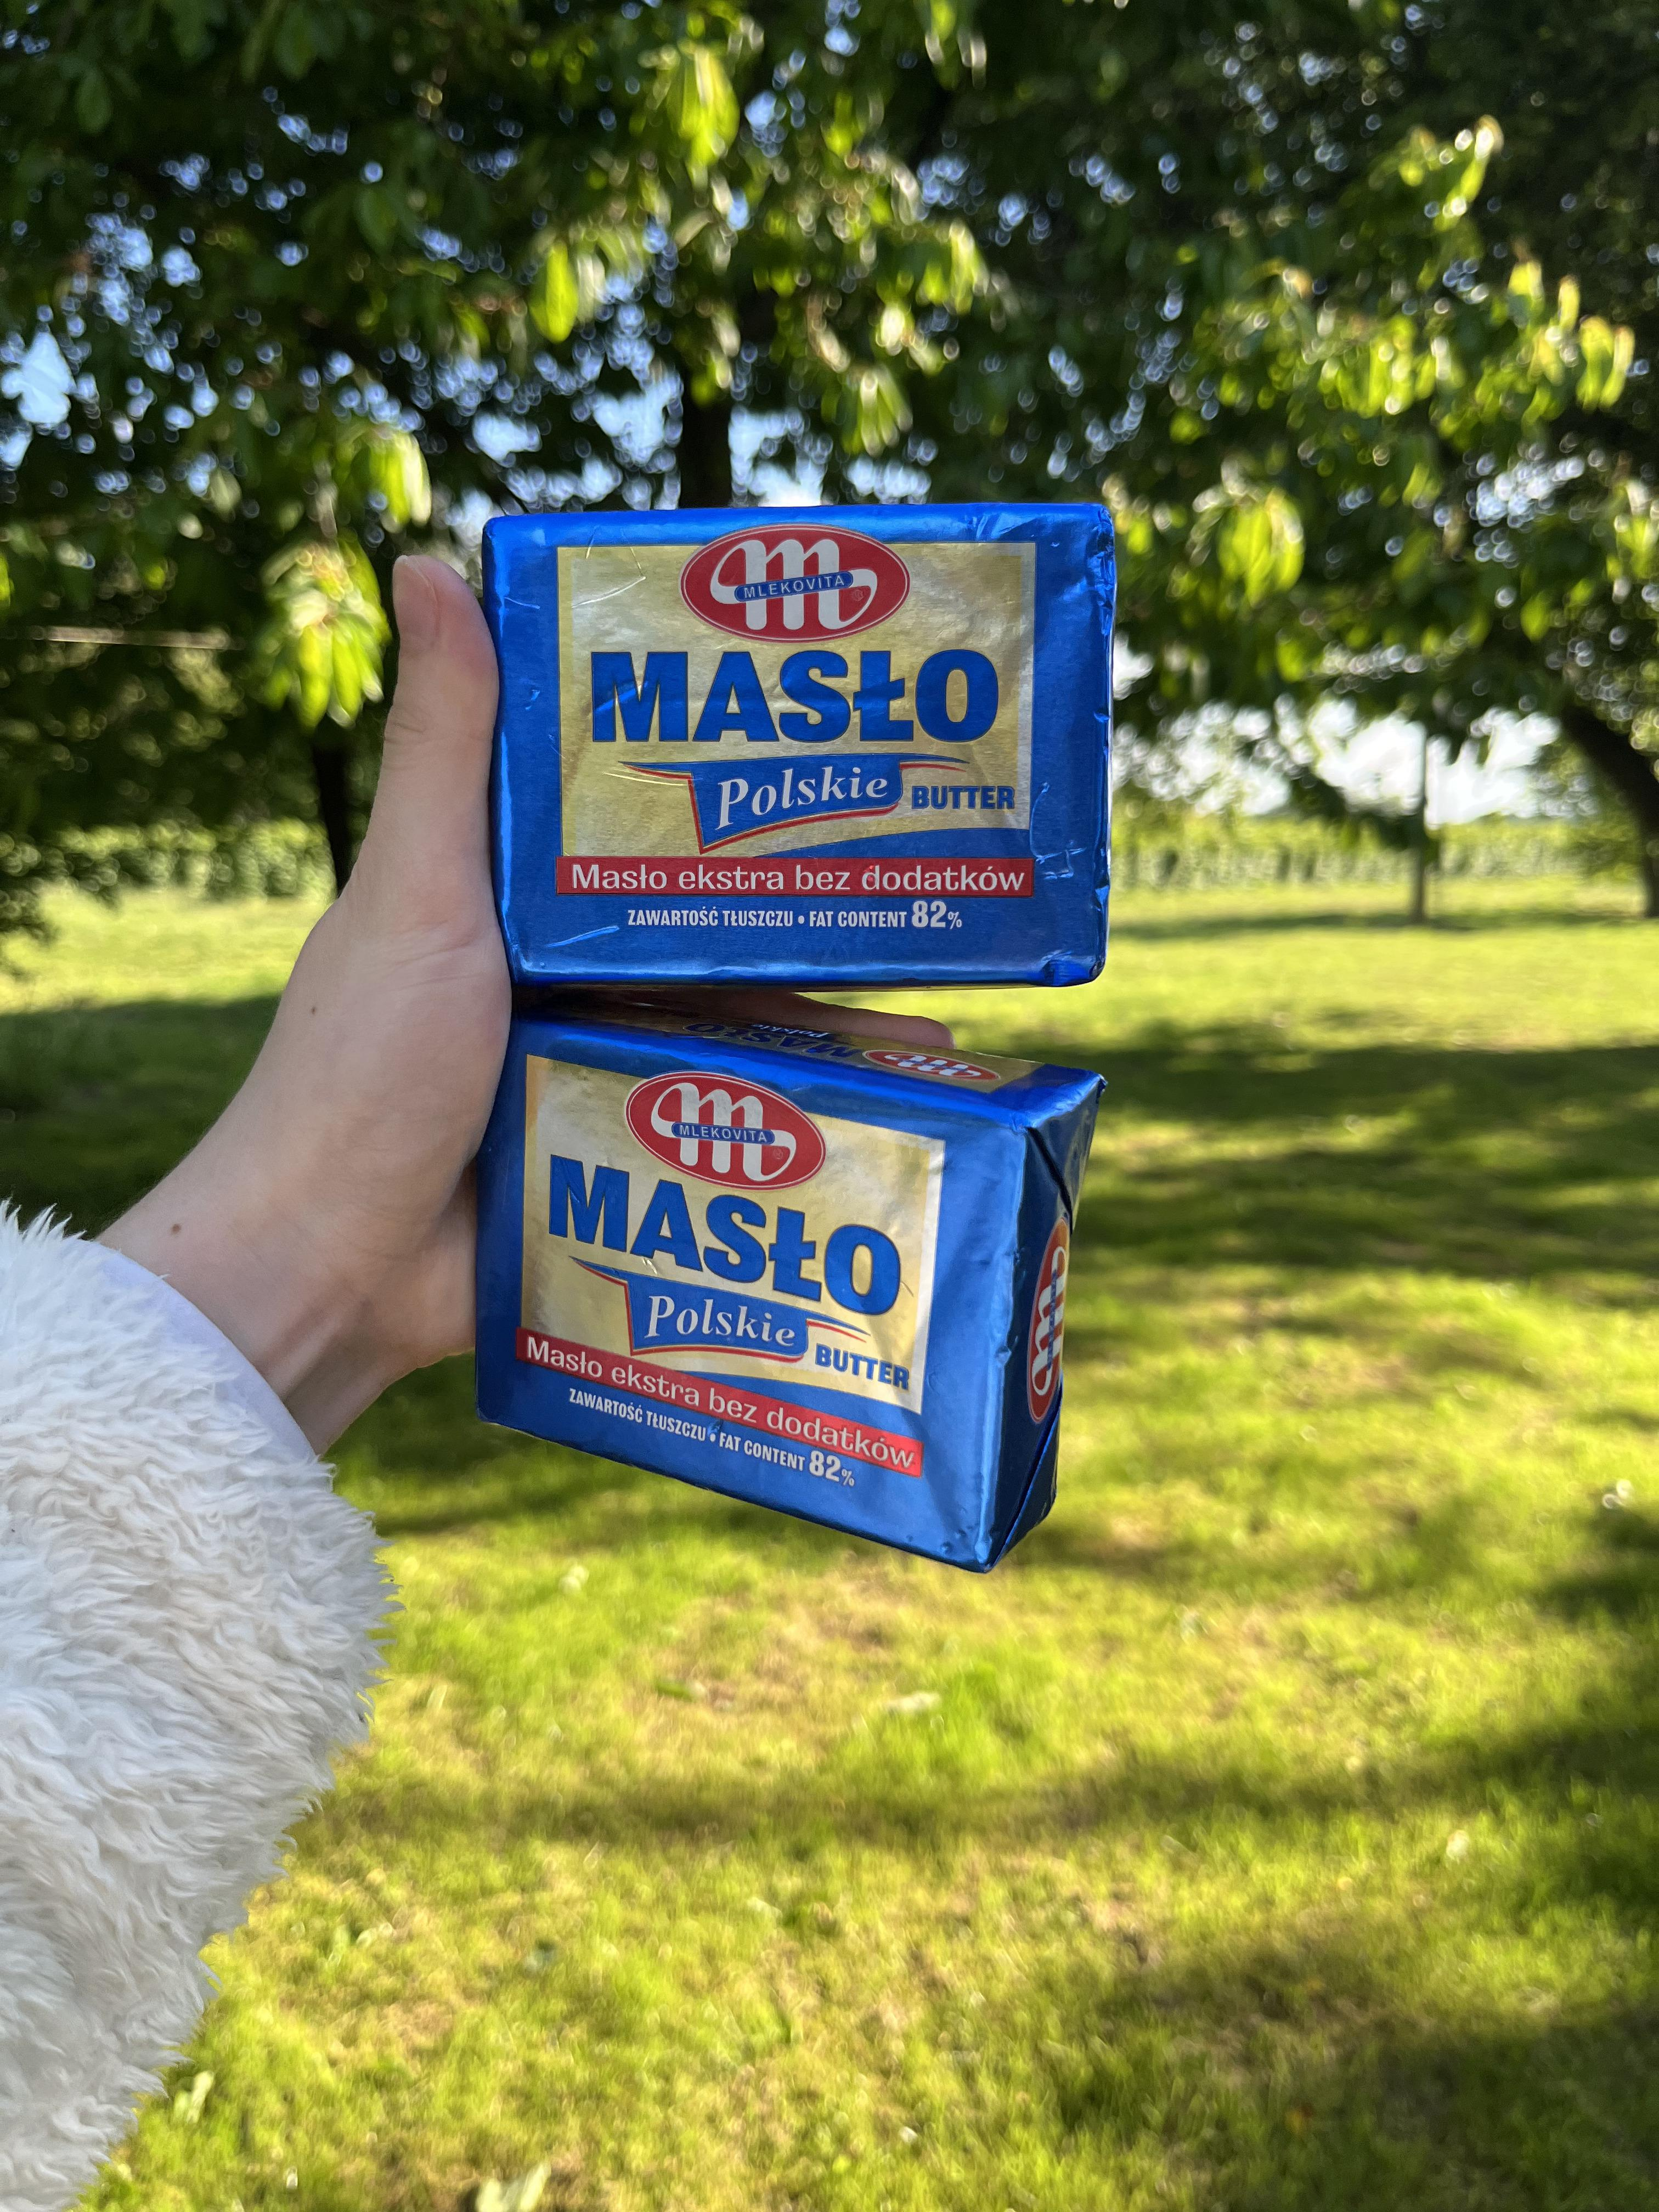Butter: (511, 1021, 1107, 1573), (493, 514, 1115, 965)
